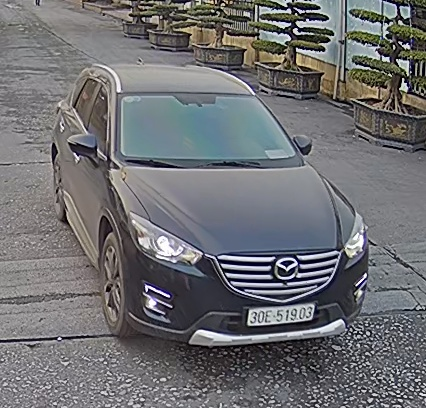vehicle plate: (245, 301, 319, 326)
